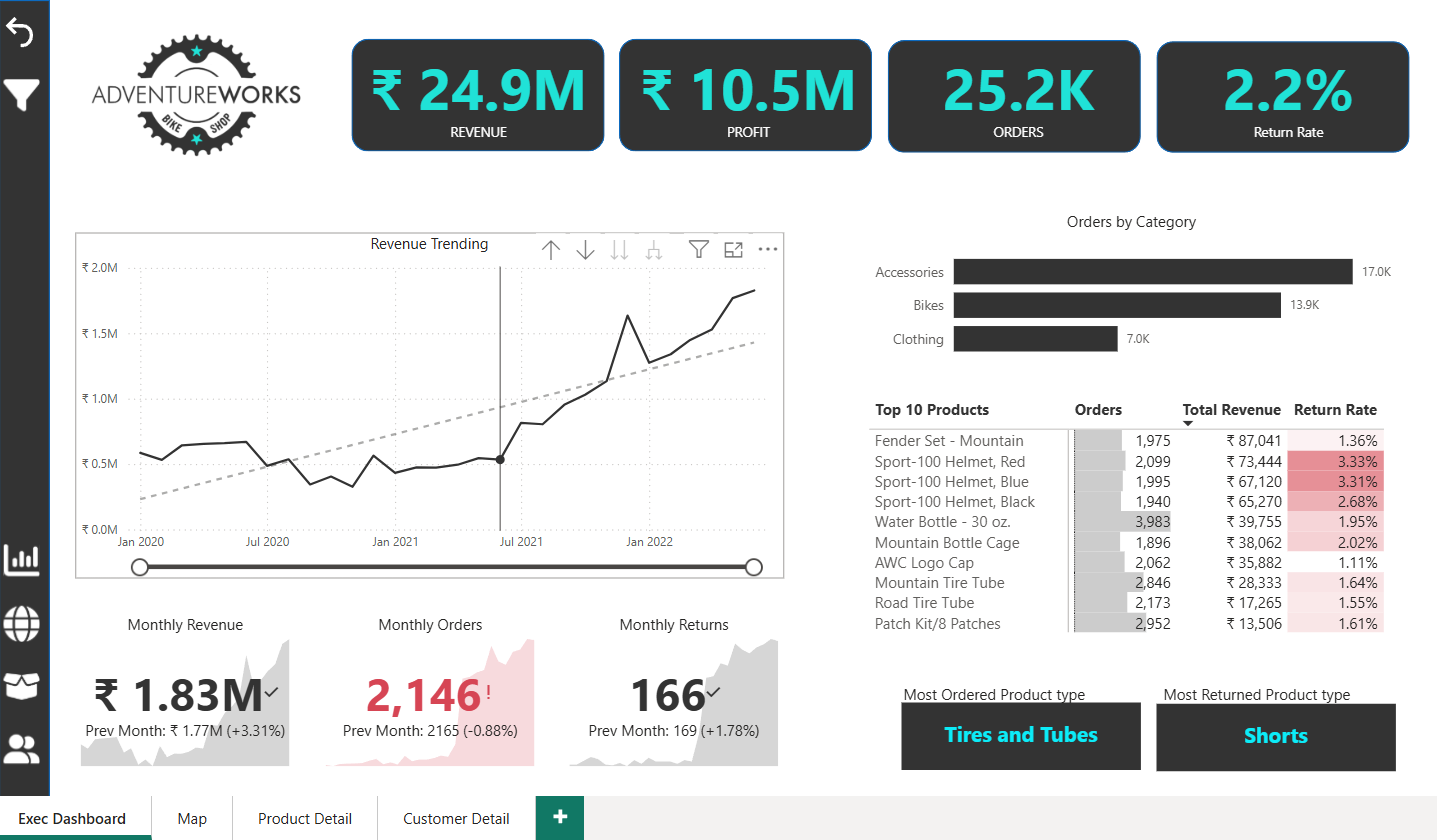

Layout of this report page (visuals, bound fields, positions):
{"tool":"powerbi","page":{"name":"Exec Dashboard","canvas":[1280,720],"ordinal":0},"visuals":[{"type":"card","fields":{"Values":["Measure Table.Total Revenue"]},"box":[302.9,8.5,246,150.8],"z":0,"group":"g2"},{"type":"image","title":"AW Logo","box":[53.8,28.1,244.6,113.7],"z":0},{"type":"group","id":"g1","title":"KPI Background","box":[313,34.2,940.4,101.5],"z":0,"group":"g3"},{"type":"shape","box":[313,34.2,225,100.3],"z":0,"group":"g1"},{"type":"shape","title":"Left Nav Background","box":[0,0,45.2,720.2],"z":1000},{"type":"group","id":"g2","title":"KPI Values","box":[302.9,8.5,965.7,150.8],"z":1000,"group":"g3"},{"type":"card","fields":{"Values":["Measure Table.Total Profit"]},"box":[542.8,8.5,246,150.8],"z":1000,"group":"g2"},{"type":"shape","box":[550.2,34.2,225,100.3],"z":1000,"group":"g1"},{"type":"group","id":"g3","title":"KPI","box":[302.9,8.5,965.7,150.8],"z":2000},{"type":"card","fields":{"Values":["Measure Table.Total orders"]},"box":[782.7,8.5,246,150.8],"z":2000,"group":"g2"},{"type":"shape","box":[789.3,35.4,225,100.3],"z":2000,"group":"g1"},{"type":"card","fields":{"Values":["Measure Table.Return Rate"]},"box":[1022.5,8.5,246,150.8],"z":3000,"group":"g2"},{"type":"shape","box":[1028.4,36.6,225,99],"z":3000,"group":"g1"},{"type":"lineChart","title":"Revenue Trending","fields":{"Y":["Measure Table.Total Revenue"],"Category":["Calendar Lookup.Year","Calendar Lookup.Start of Quarter","Calendar Lookup.Start of Month"]},"box":[68.2,206.7,629.8,308.2],"z":3000},{"type":"kpi","title":"Monthly Revenue","fields":{"Indicator":["Measure Table.Total Revenue"],"TrendLine":["Calendar Lookup.Start of Month"],"Goal":["Measure Table.Prev month revenue"]},"box":[68.2,545.4,195.7,140.6],"z":4000},{"type":"kpi","title":"Monthly Orders","fields":{"TrendLine":["Calendar Lookup.Start of Month"],"Indicator":["Measure Table.Total orders"],"Goal":["Measure Table.Prev month orders"]},"box":[285.3,545.4,195.7,140.6],"z":5000},{"type":"kpi","title":"Monthly Returns","fields":{"TrendLine":["Calendar Lookup.Start of Month"],"Indicator":["Measure Table.Total returns"],"Goal":["Measure Table.Prev month returns"]},"box":[502.3,545.4,195.7,140.6],"z":6000},{"type":"clusteredBarChart","title":"Orders by Category","fields":{"Category":["Product Categories Lookup.CategoryName"],"Y":["Measure Table.Total orders"]},"box":[769.2,188.3,475.7,143.1],"z":7000},{"type":"pivotTable","fields":{"Rows":["Product Lookup.ProductName"],"Values":["Measure Table.Total orders","Measure Table.Total Revenue","Measure Table.Return Rate"]},"box":[769.2,349.7,475.7,222.6],"z":8000},{"type":"card","fields":{"Values":["Min(Product Subcategories Lookup.SubcategoryName)"]},"box":[802.4,624.3,212.8,59.9],"z":9000},{"type":"textbox","box":[798.8,603.1,193.2,28.1],"z":10000},{"type":"card","fields":{"Values":["Min(Product Subcategories Lookup.SubcategoryName)"]},"box":[1029.1,625.1,212.8,59.9],"z":11000},{"type":"textbox","box":[1029.6,602.9,193.2,28.1],"z":12000},{"type":"actionButton","box":[0,9.8,36.7,36.7],"z":13000},{"type":"actionButton","box":[0,478.1,45.2,40.4],"z":14000},{"type":"actionButton","box":[0,534,45.2,40.4],"z":15000},{"type":"actionButton","box":[0,589.8,45.2,40.4],"z":16000},{"type":"actionButton","box":[0,645.7,45.2,40.4],"z":17000},{"type":"actionButton","box":[0,64.8,45.2,40.4],"z":18000}]}

Visuals, with their boxes on the page's 1280x720 design canvas (x1, y1, x2, y2). These are canvas units, not pixel positions in the 1437x840 screenshot, which may show the page scaled, cropped or inside an application window:
card - Measure Table.Total Revenue: 303:8:549:159
"AW Logo" image: 54:28:298:142
"KPI Background" group: 313:34:1253:136
shape: 313:34:538:134
"Left Nav Background" shape: 0:0:45:720
"KPI Values" group: 303:8:1269:159
card - Measure Table.Total Profit: 543:8:789:159
shape: 550:34:775:134
"KPI" group: 303:8:1269:159
card - Measure Table.Total orders: 783:8:1029:159
shape: 789:35:1014:136
card - Measure Table.Return Rate: 1022:8:1268:159
shape: 1028:37:1253:136
"Revenue Trending" lineChart: 68:207:698:515
"Monthly Revenue" kpi: 68:545:264:686
"Monthly Orders" kpi: 285:545:481:686
"Monthly Returns" kpi: 502:545:698:686
"Orders by Category" clusteredBarChart: 769:188:1245:331
pivotTable - Product Lookup.ProductName x Measure Table.Total orders: 769:350:1245:572
card - Min(Product Subcategories Lookup.SubcategoryName): 802:624:1015:684
textbox: 799:603:992:631
card - Min(Product Subcategories Lookup.SubcategoryName): 1029:625:1242:685
textbox: 1030:603:1223:631
actionButton: 0:10:37:46
actionButton: 0:478:45:518
actionButton: 0:534:45:574
actionButton: 0:590:45:630
actionButton: 0:646:45:686
actionButton: 0:65:45:105
